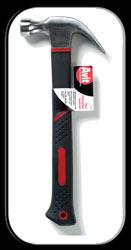hammer: (17, 14, 106, 227)
